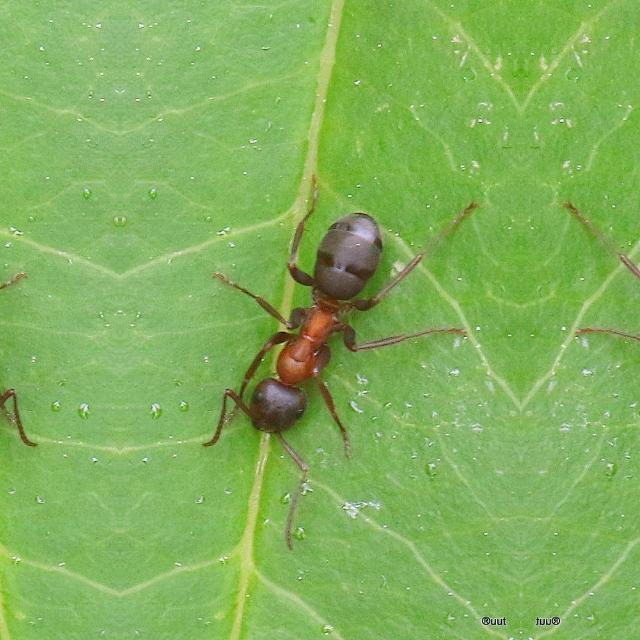Formica: (222, 186, 404, 472)
